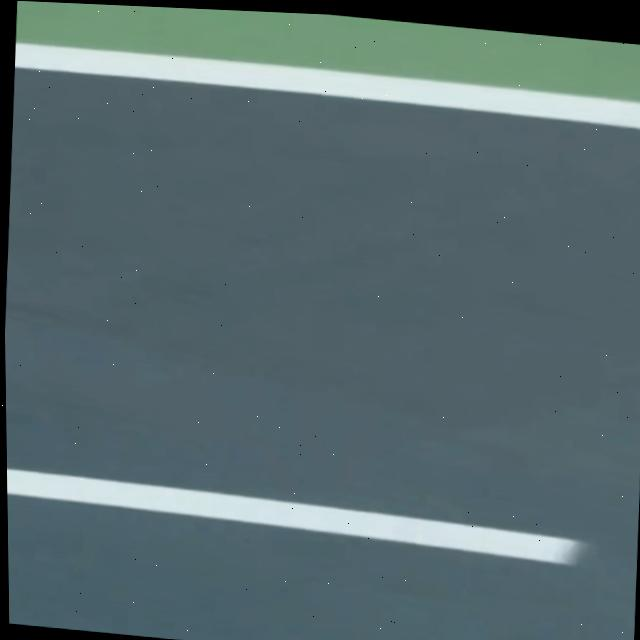center: (7, 470, 583, 564)
right: (14, 43, 640, 129)
